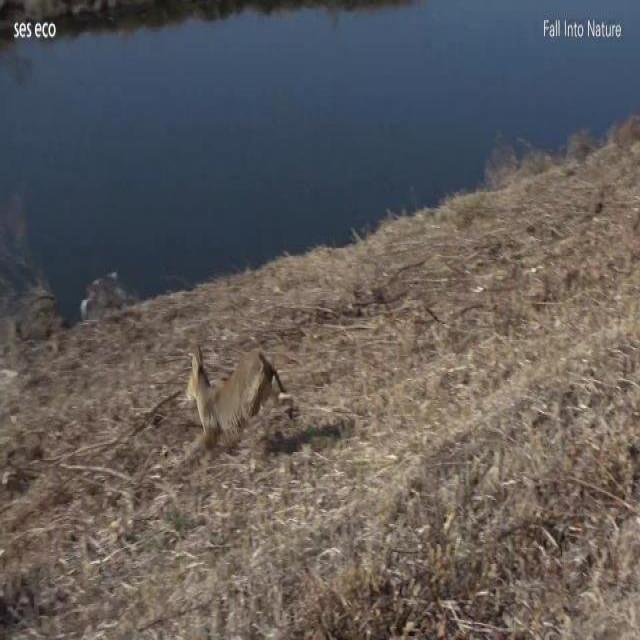deer: (182, 346, 292, 445)
